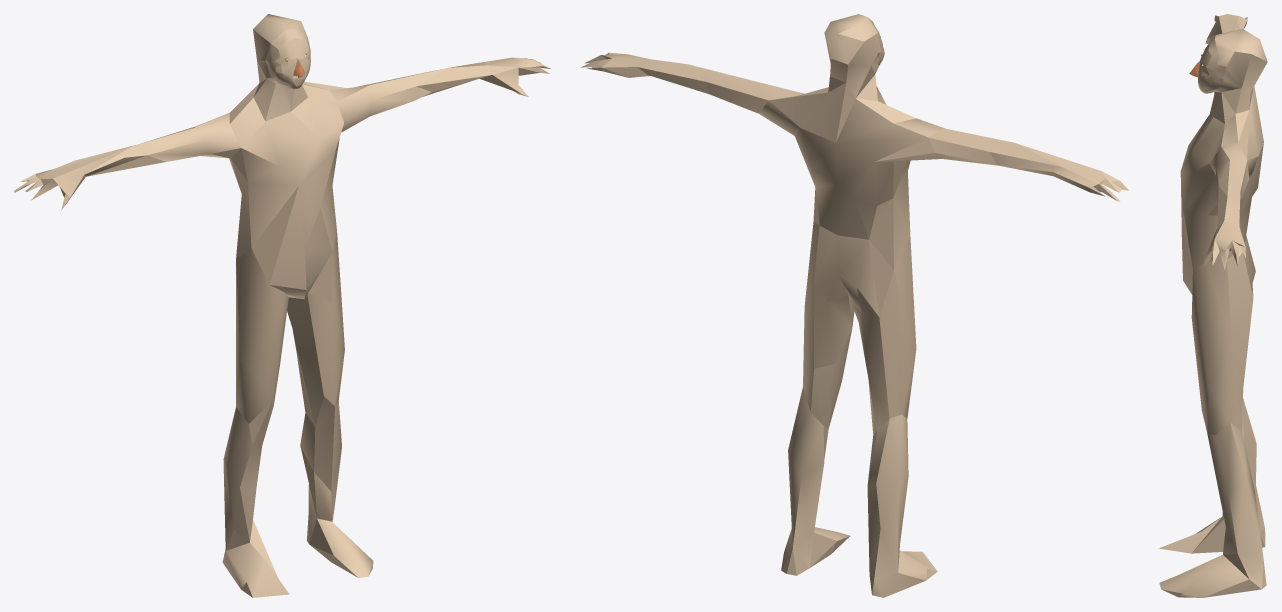
3 renders of one model, left to right at view 1: azimuth 30°, elevation 25°; view 2: azimuth 150°, elevation 25°; view 3: azimuth 270°, elevation 25°, orthographic. The views are drawn at different scales.
Visible parts, largest first — view 1: split_parent_0; view 2: split_parent_0; view 3: split_parent_0.
Part boxes in pixels (x1,y1,x2,y2): split_parent_0: [14, 14, 550, 597]; split_parent_0: [581, 14, 1128, 597]; split_parent_0: [1158, 14, 1267, 597].
Bounding box in the file's own units: 1 × 0.9831 × 0.1826.
